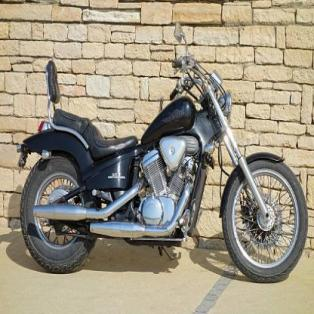Motocicleta: (10, 19, 312, 284)
